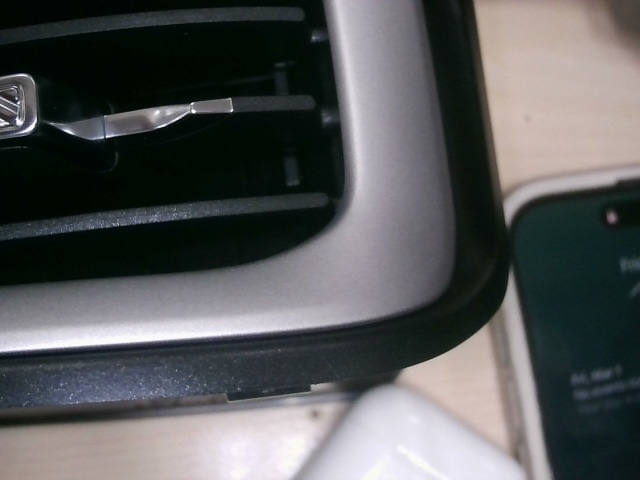NG: (317, 357, 351, 386)
